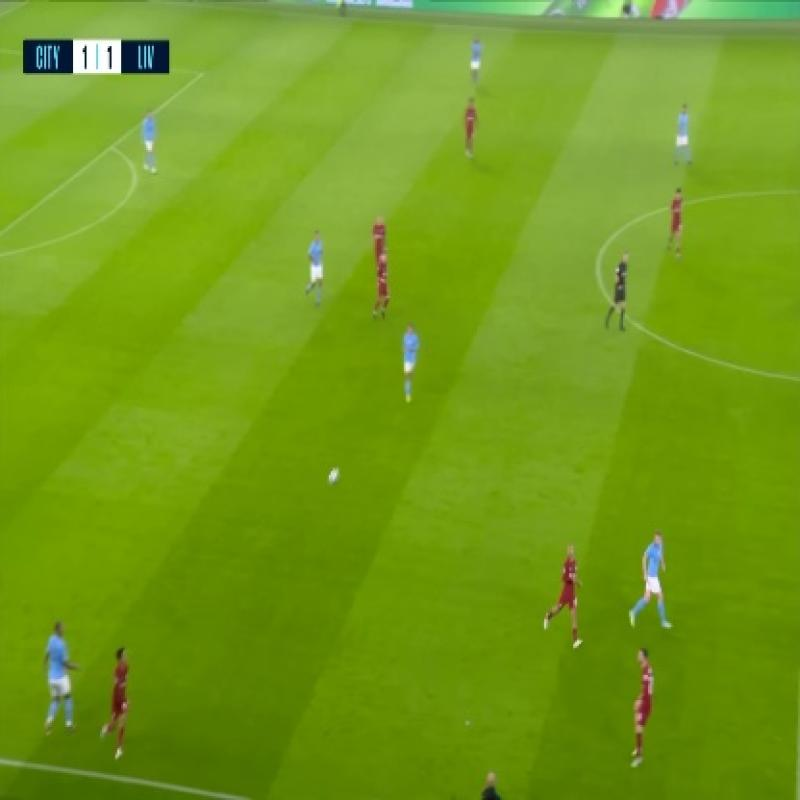10: (100, 132, 121, 160)
9: (190, 60, 211, 86)
c: (579, 233, 631, 284)
